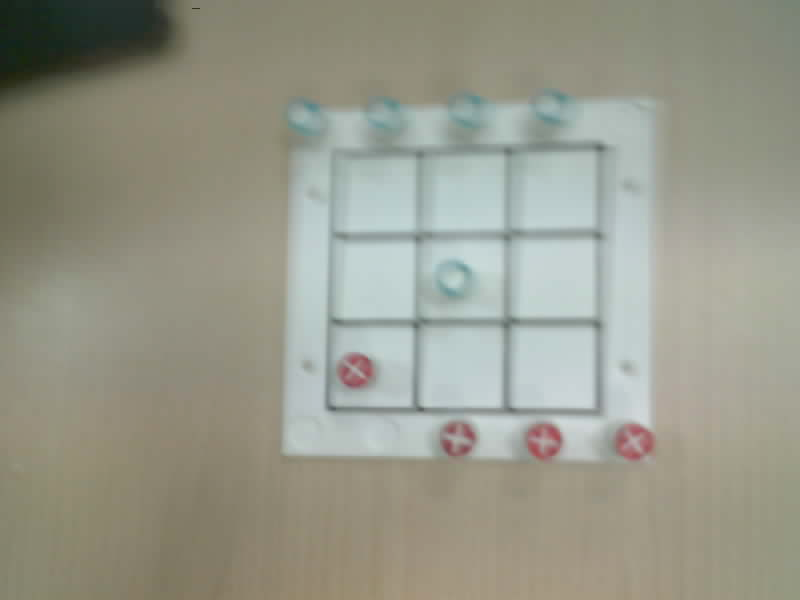blue circle: (531, 89, 574, 124), (434, 259, 473, 297), (364, 96, 405, 132), (287, 98, 325, 136), (448, 92, 487, 129)
board: (283, 92, 656, 460)
cells: (510, 326, 596, 410), (329, 326, 413, 407), (512, 150, 597, 230), (511, 239, 597, 318), (418, 240, 504, 318), (421, 326, 501, 408), (332, 240, 414, 319), (422, 152, 504, 230), (335, 155, 416, 232)
grid: (325, 142, 606, 414)
red cross: (615, 423, 654, 460), (526, 423, 562, 459), (440, 421, 477, 456), (337, 353, 373, 387)
